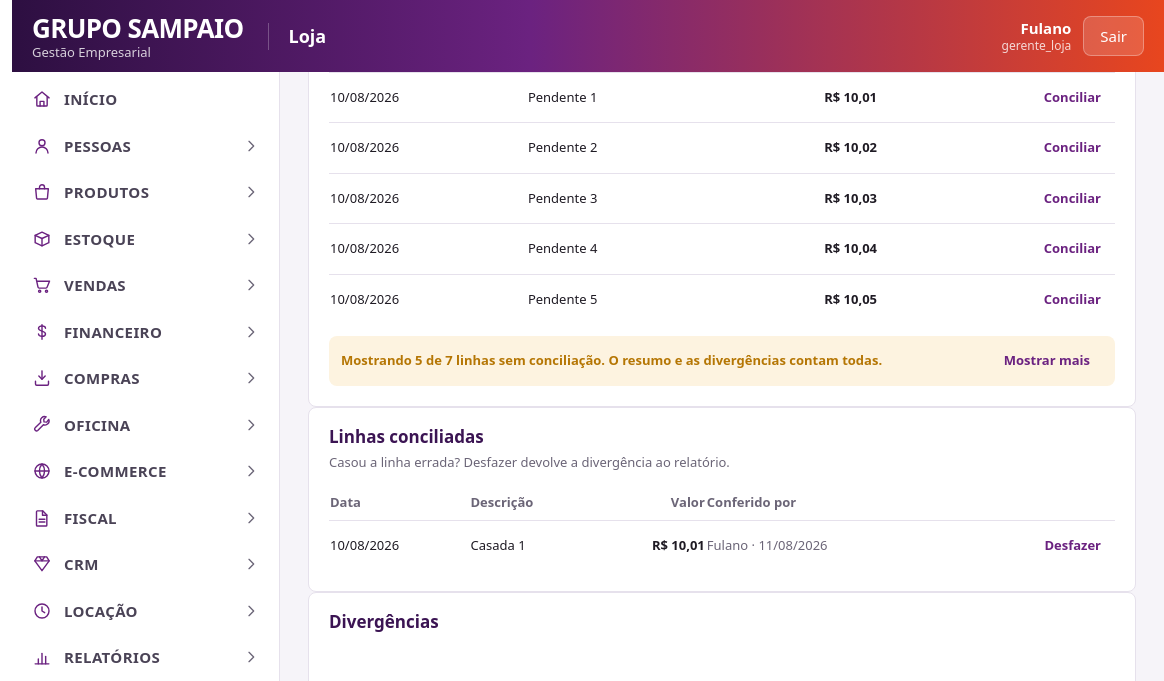
Test: GAP-PRD-177 — a lista de trabalho declara o corte › diz quantas pendências existem além das mostradas, e busca o resto
(page scrolled)
Check: the text "Mostrando 5 de 7 linhas sem conciliação" is shown, box left=341, top=351, right=882, bottom=370
Check: the text "Pendente 7" is not shown
Click the button "Mostrar mais": click(1047, 361) left=991, top=344, right=1103, bottom=378
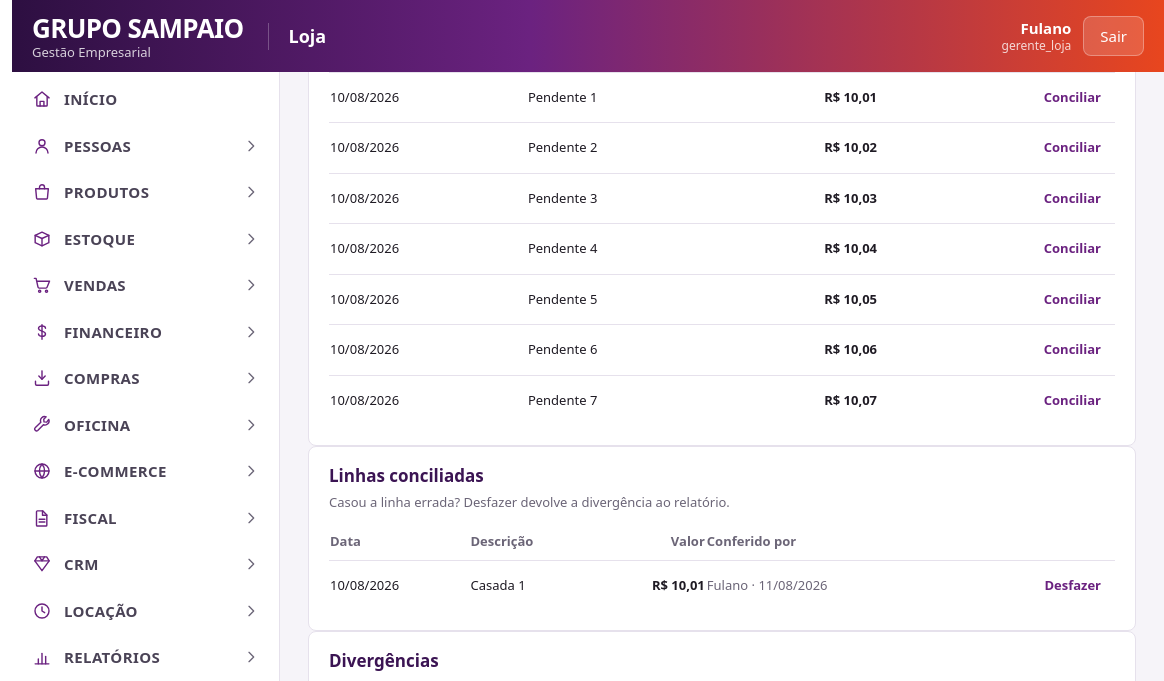
Check: the text "Pendente 7" is shown, box left=527, top=375, right=726, bottom=425
